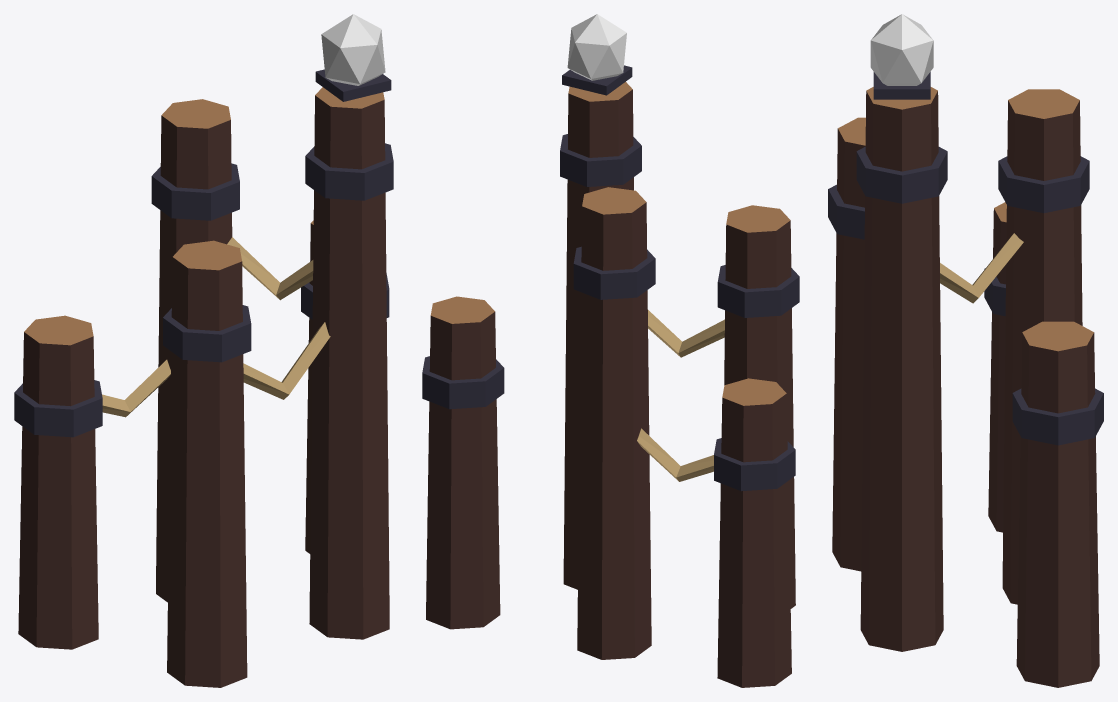
Rendered from Set_Pilings.fbx.
The picture shows the model from 3 angles, left to right: view 1: azimuth 30°, elevation 25°; view 2: azimuth 150°, elevation 25°; view 3: azimuth 270°, elevation 25°; orthographic projection. The views are drawn at different scales.
Parts seen in each view (by area): view 1: Set_Pilings; view 2: Set_Pilings; view 3: Set_Pilings.
Boxes of the visible parts, x1,y1,x2,y2 form: Set_Pilings: (14,14,393,687); Set_Pilings: (422,14,799,687); Set_Pilings: (828,14,1103,687).
Size of what is drawn, in the model's own units: 3.13 by 4.83 by 1.94.
2 materials, 1 textured.
